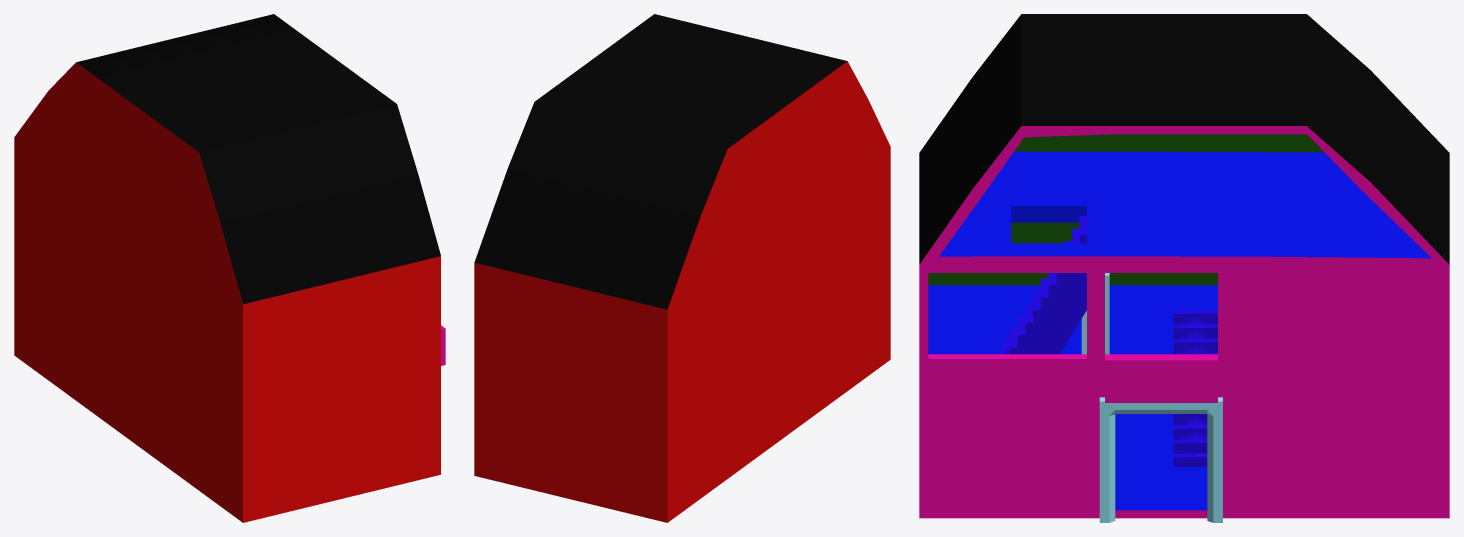
3 renders of one model, left to right at view 1: azimuth 30°, elevation 25°; view 2: azimuth 150°, elevation 25°; view 3: azimuth 270°, elevation 25°, orthographic. The views are drawn at different scales.
Parts seen in each view (by area): view 1: Box001; view 2: Box001; view 3: Box001, StraightStair005, Box004, StraightStair004.
Boxes of the visible parts, x1=… form: Box001: x1=14, y1=14, x2=445, y2=522; Box001: x1=474, y1=14, x2=890, y2=522; Box001: x1=919, y1=14, x2=1449, y2=518; StraightStair005: x1=1002, y1=216, x2=1087, y2=354; Box004: x1=1099, y1=397, x2=1222, y2=522; StraightStair004: x1=1172, y1=310, x2=1217, y2=467.
Size of the model in its own units: 31.07 by 59.06 by 48.23.
